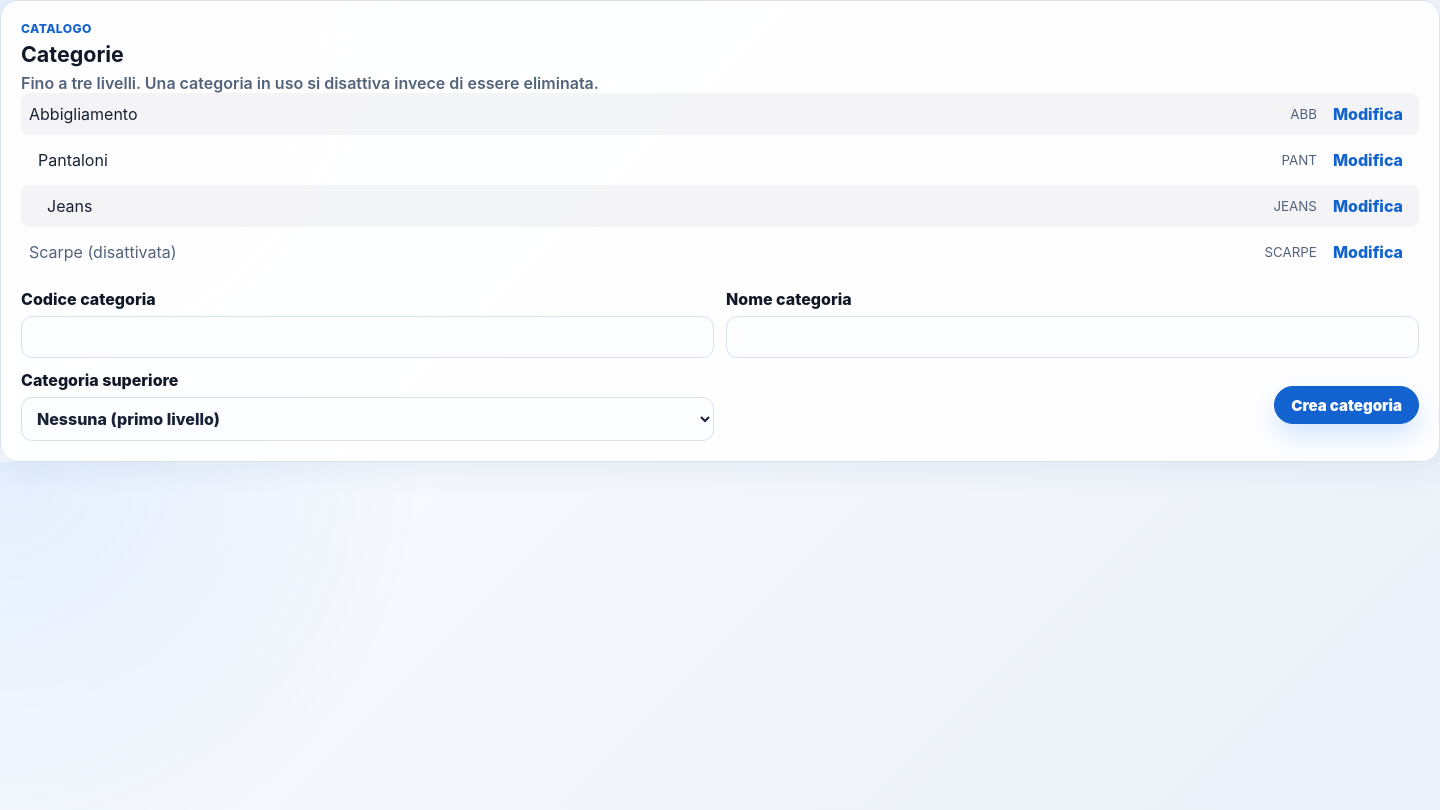
it: CategoryManager › non propone come superiore se stessa, i discendenti, il terzo livello o categorie disattivate
Click the button with aria-label "Modifica categoria Abbigliamento" at (1368, 114), box [1325,99,1411,129]
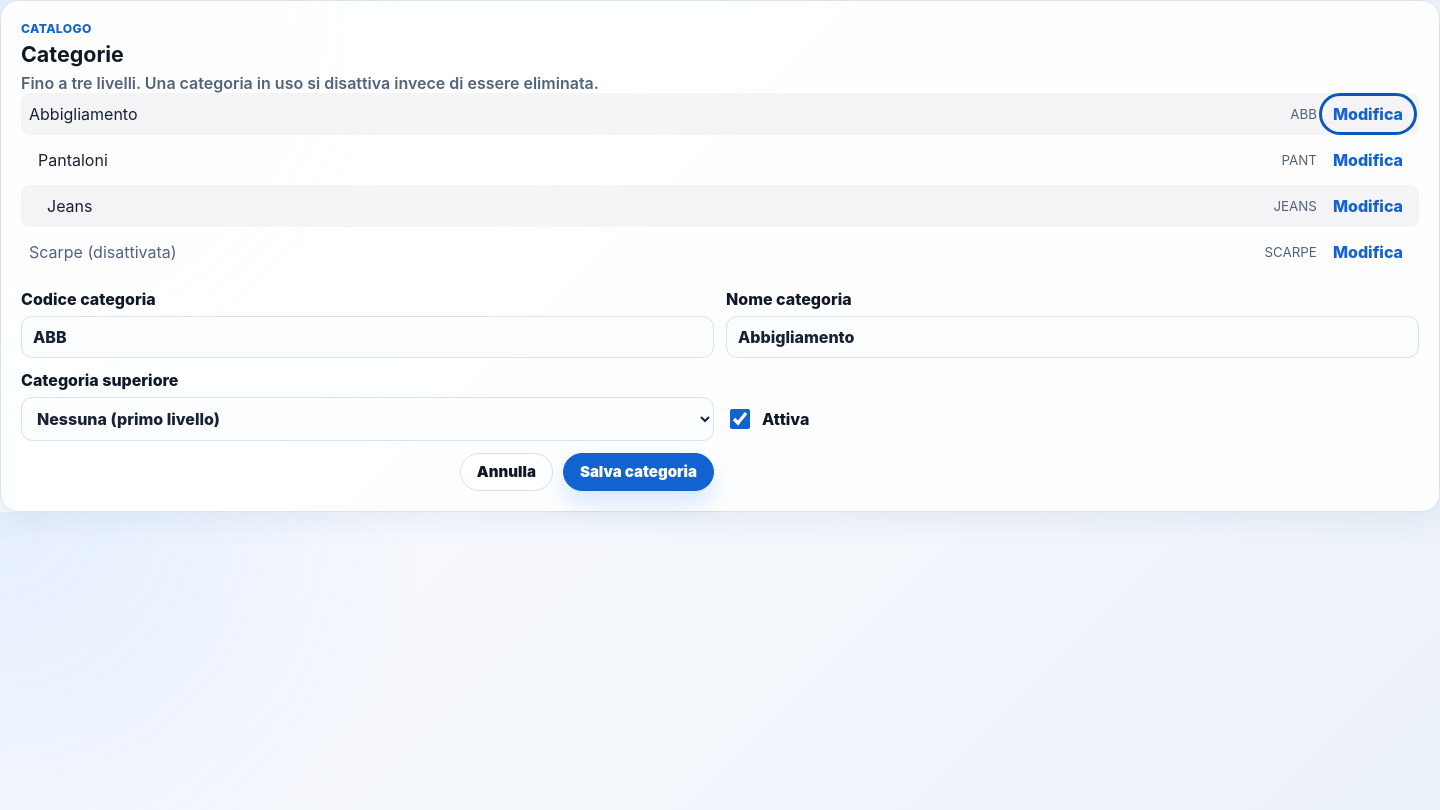
Expected: the checkbox labelled "Attiva" is checked, [730,409,750,429]
